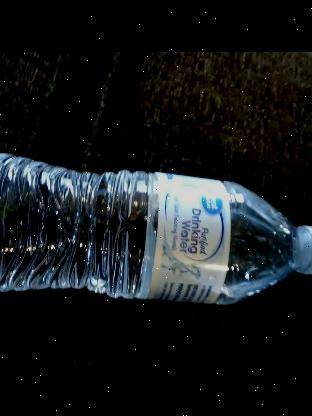Plastic Bottle: (0, 150, 312, 305)
